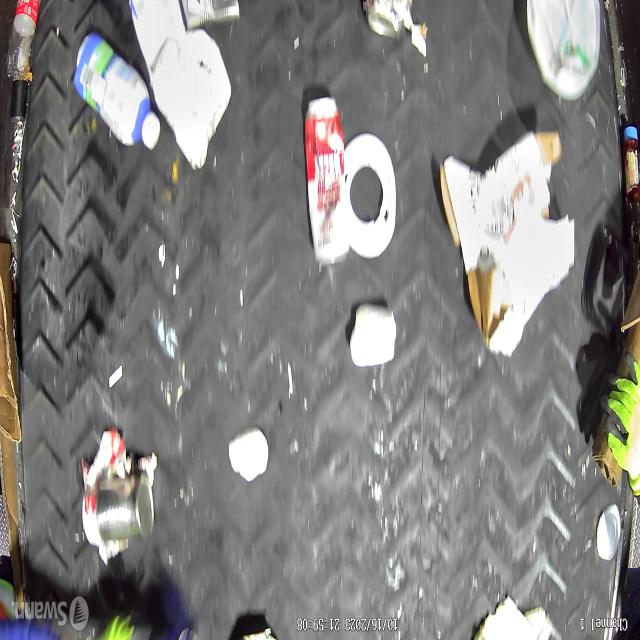can: (301, 92, 349, 270), (95, 473, 156, 547), (360, 0, 410, 45), (180, 0, 242, 33)
milk_jug: (524, 0, 604, 102)
plastic_bottle: (5, 0, 41, 86)
